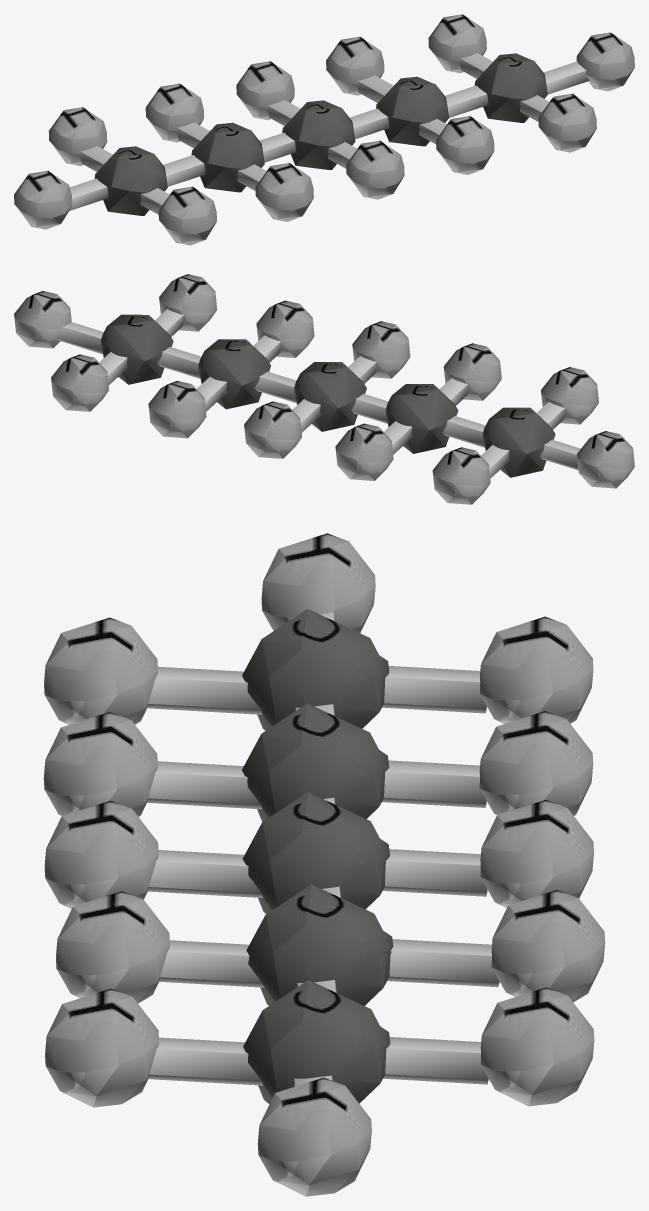
File: chain.fbx
The picture shows the model from 3 angles, top to bottom: view 1: azimuth 30°, elevation 25°; view 2: azimuth 150°, elevation 25°; view 3: azimuth 270°, elevation 25°; orthographic projection. The views are drawn at different scales.
Visible parts, largest first — view 1: pSphere201__1_; view 2: pSphere201__1_; view 3: pSphere201__1_.
Part boxes in pixels (box(x1,y1,x2,y2)): pSphere201__1_: box(14, 14, 634, 245); pSphere201__1_: box(14, 274, 634, 504); pSphere201__1_: box(43, 533, 605, 1196).
Size of the model in its own units: 81.77 by 7.95 by 32.47.
2 materials, 1 textured.
